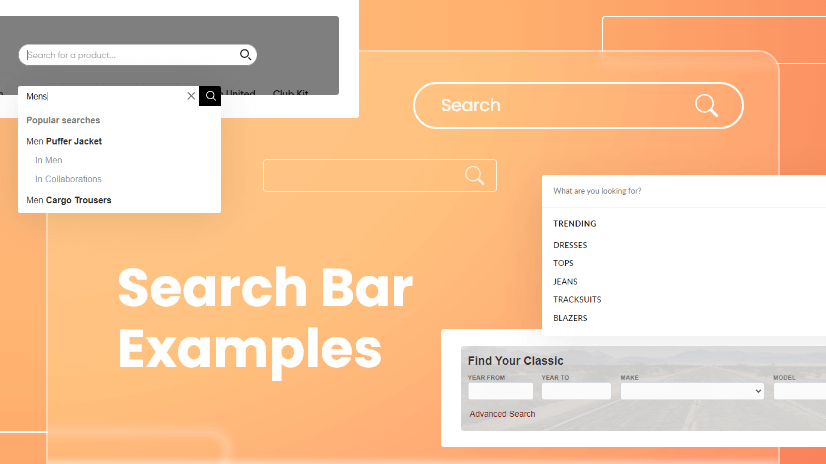search_box: (414, 82, 747, 129), (19, 41, 261, 66)
